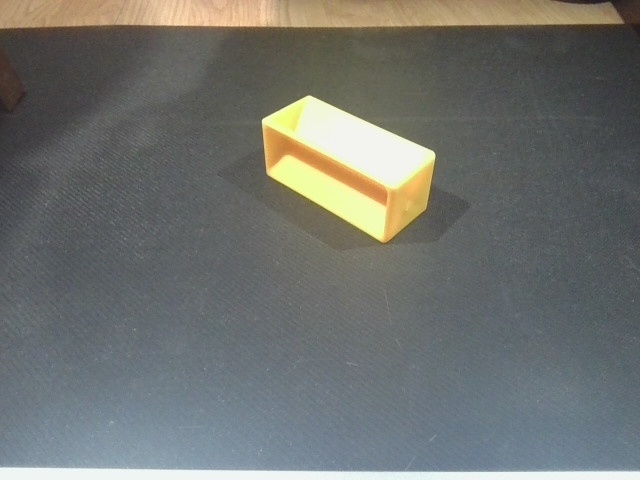YellowSample: (259, 93, 440, 246)
